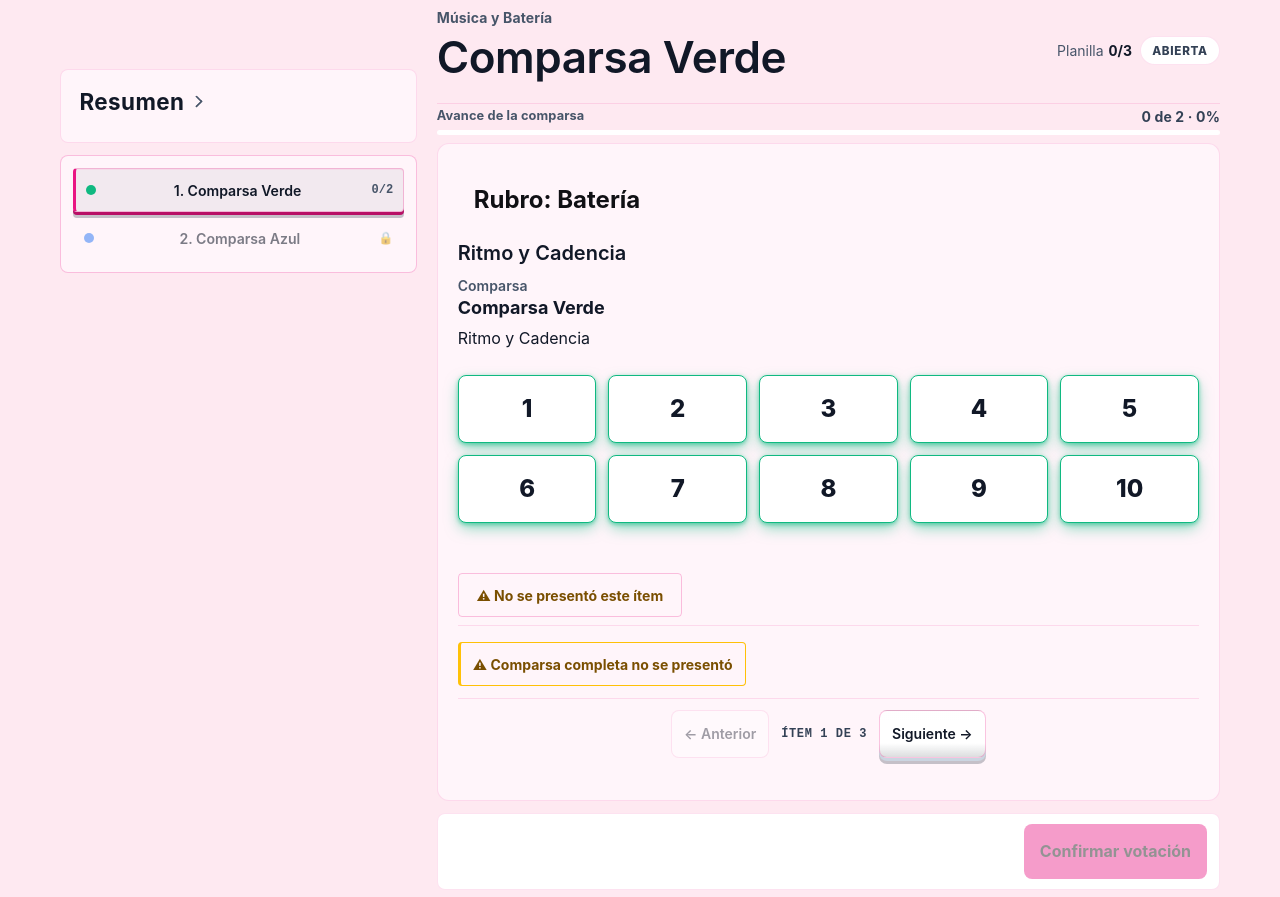
Test: JudgeBallotPage v3 (Spec 021) › muestra barra inferior fija con avance y diálogo de faltantes con salto directo (RF-188)
Check: the heading "Comparsa Verde" is shown, box x1=437 y1=34 x2=786 y2=80
Check: the navigation bar named "Navegación de planilla" is shown, box x1=458 y1=698 x2=1199 y2=768
Note: Avanzar sin votar: solo los dos ítems anteriores quedan en el modal.
Click the button with aria-label "Ítem siguiente" at [932, 734], box x1=879 y1=710 x2=986 y2=758
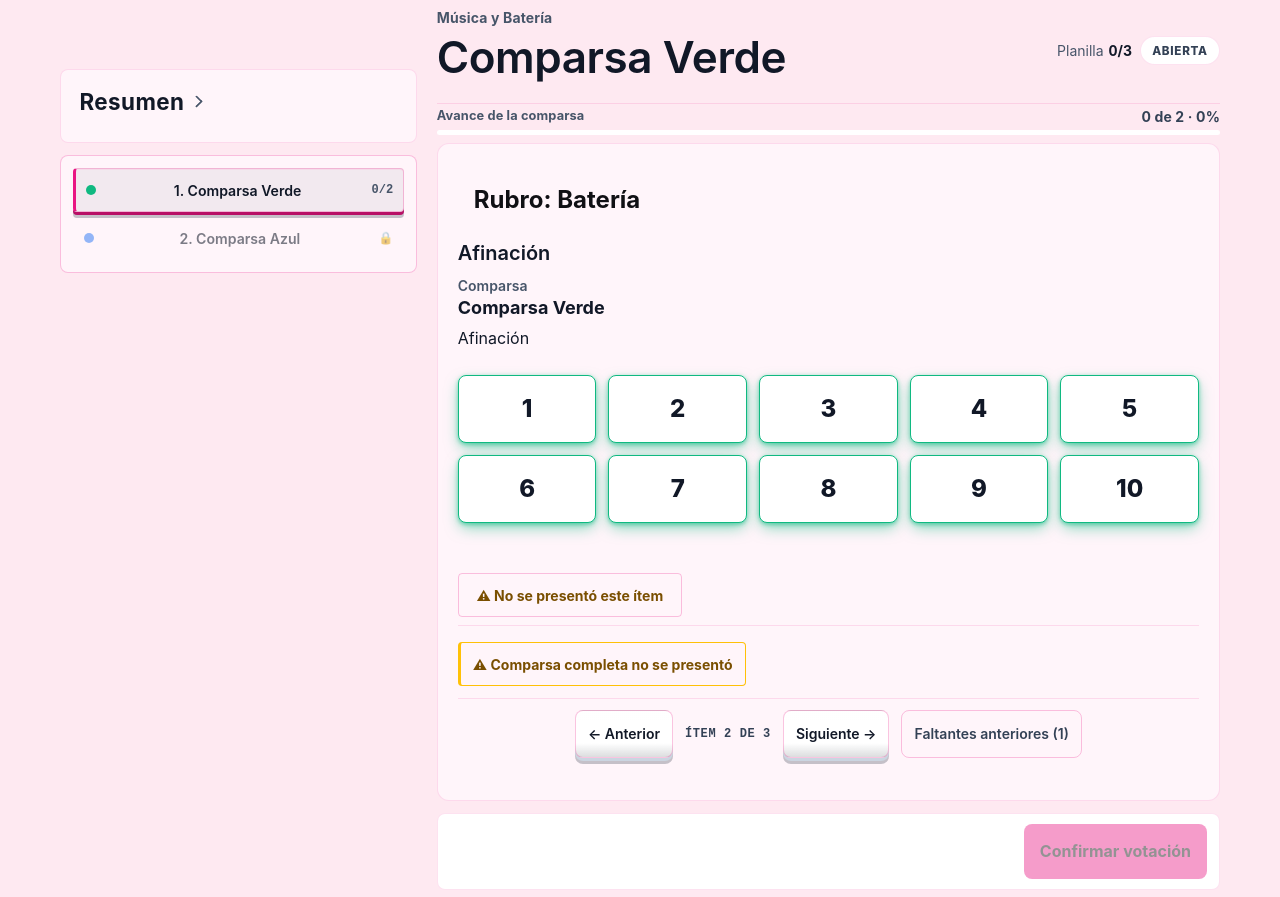
Click the button with aria-label "Ítem siguiente" at [836, 734], box x1=783 y1=710 x2=890 y2=758
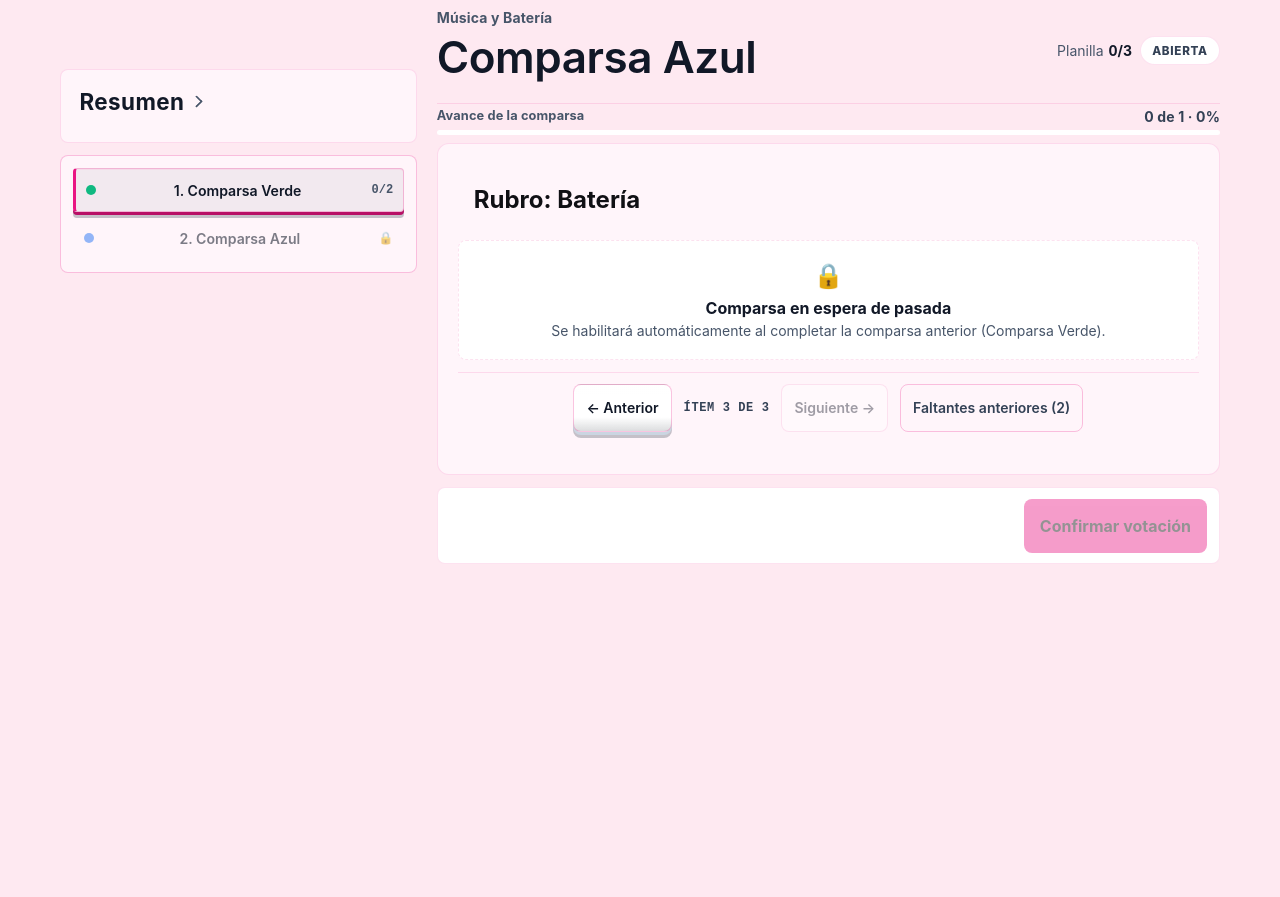
Click the button "Faltantes anteriores (2)" at [992, 408], box x1=900 y1=384 x2=1083 y2=432
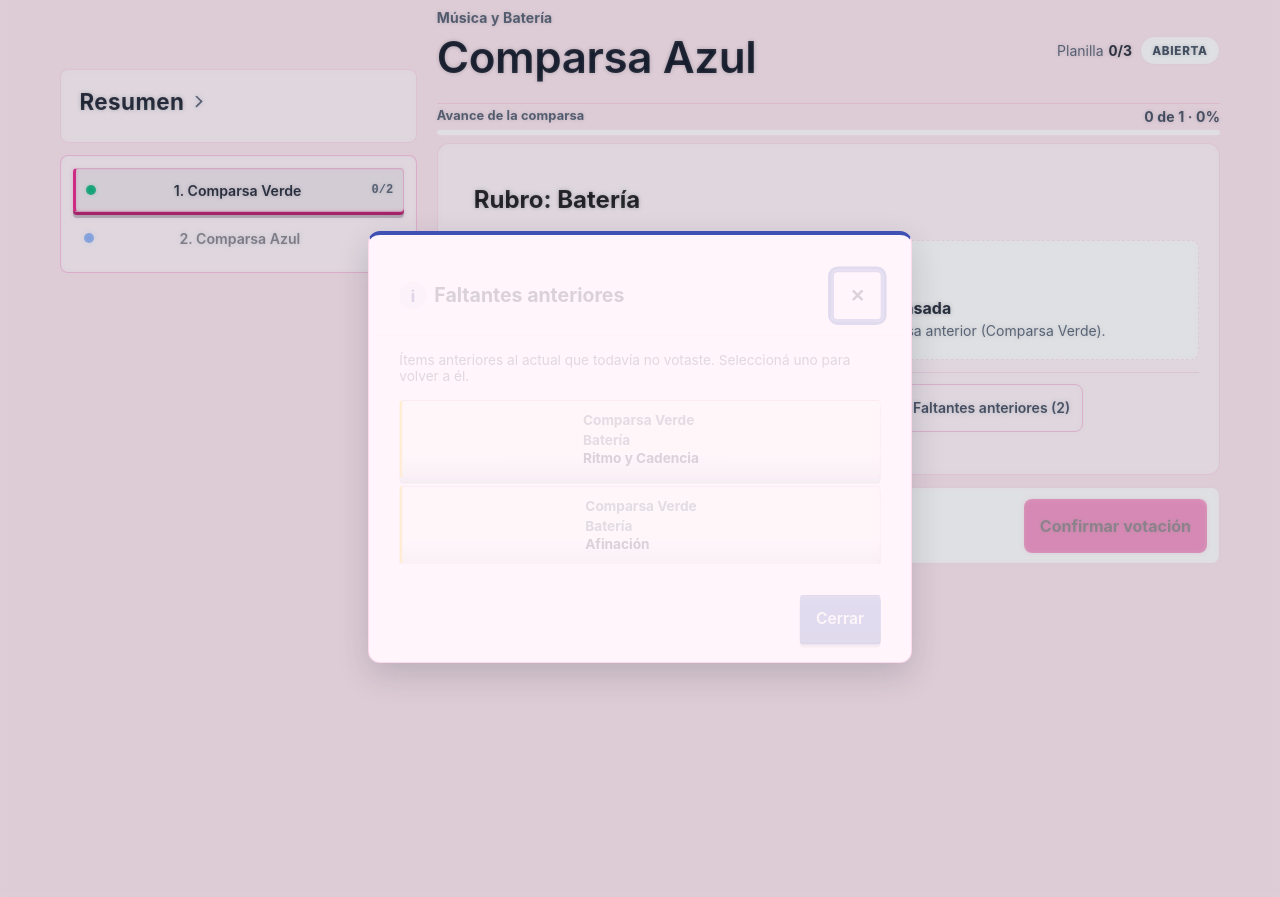
Check: the button "Comparsa Verde Batería Ritmo y Cadencia" is shown
Click the button "Comparsa Verde Batería Ritmo y Cadencia" at [639, 420], box x1=399 y1=400 x2=881 y2=478
(page scrolled)
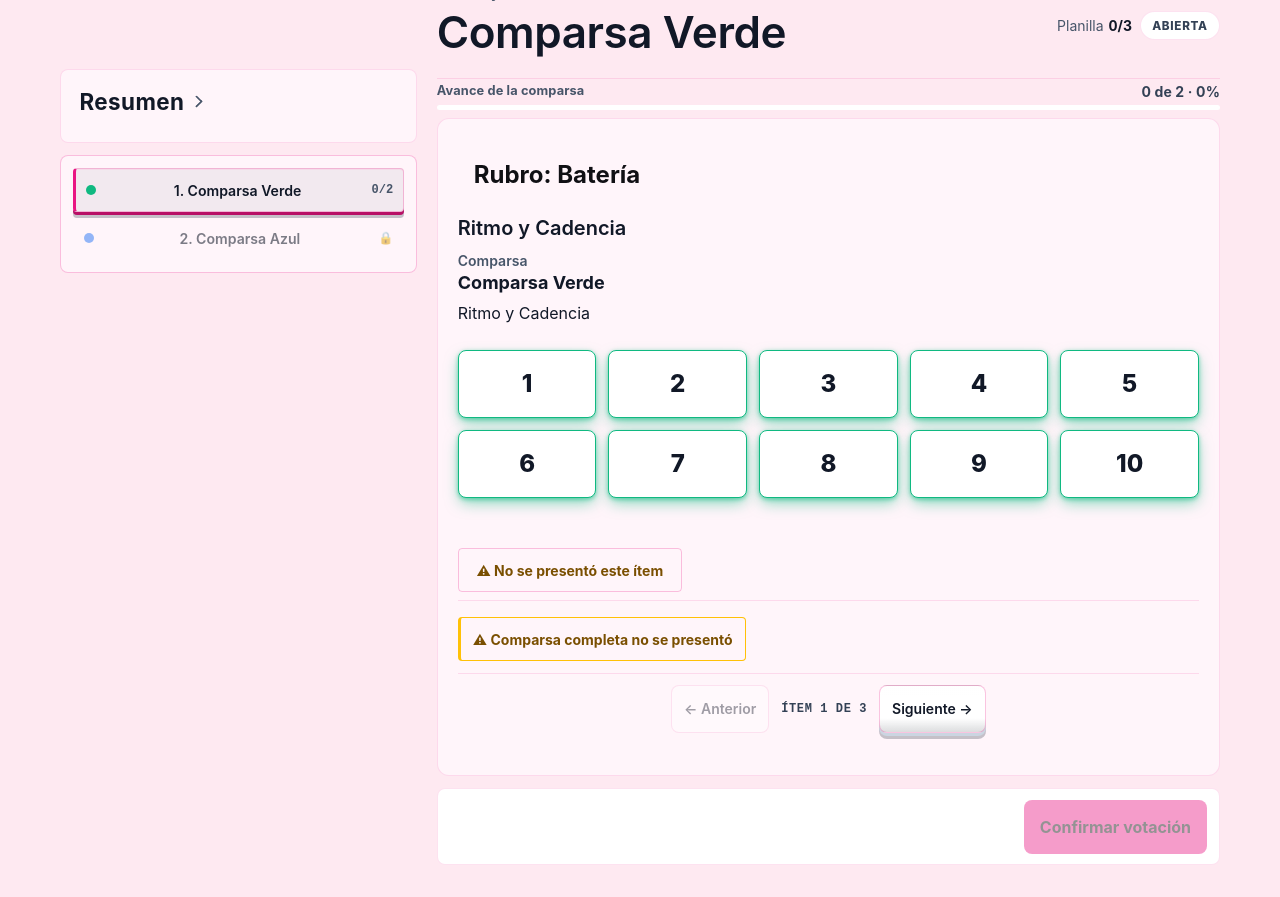
Check: the button "Faltantes anteriores" is gone
Check: the text "Ítem 1 de 3" is shown, box x1=777 y1=702 x2=871 y2=716
